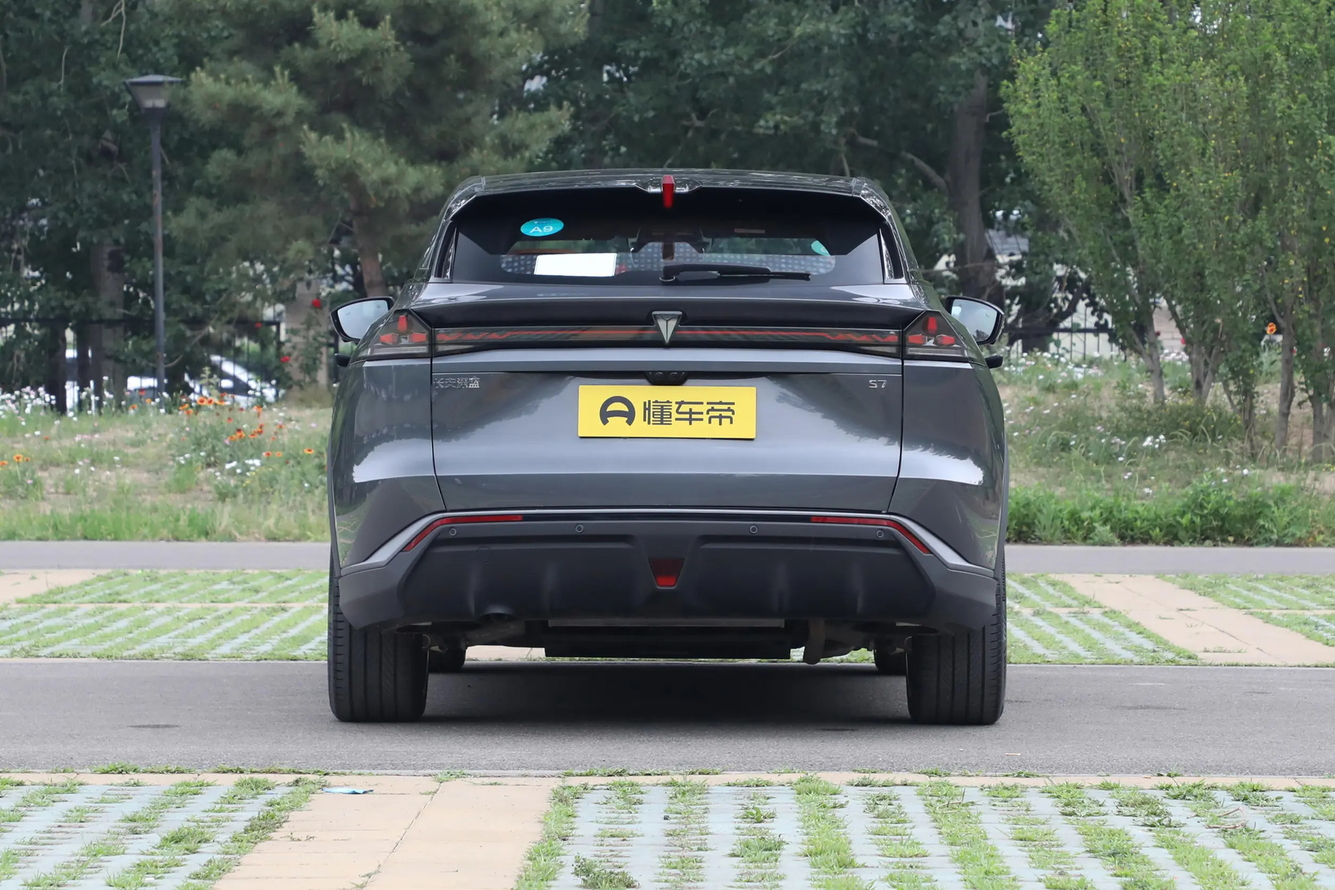Deepal: (656, 315, 678, 342)
